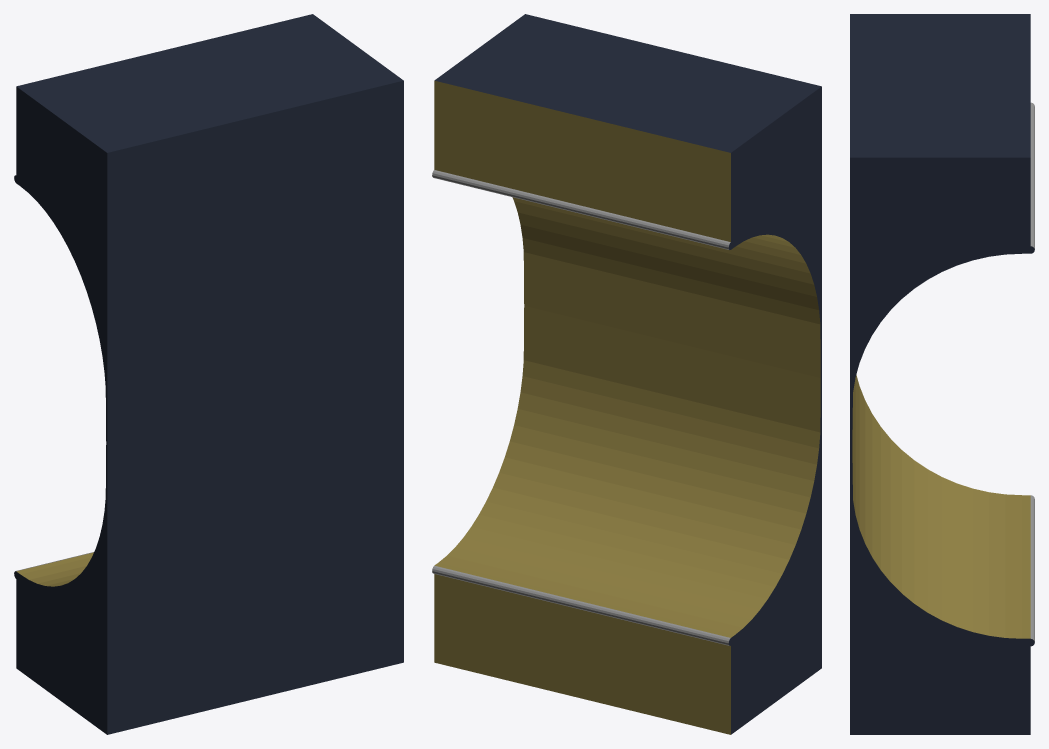
Rendered from Halfpipe.fbx.
3 renders of one model, left to right at view 1: azimuth 30°, elevation 25°; view 2: azimuth 150°, elevation 25°; view 3: azimuth 270°, elevation 25°, orthographic.
Parts seen in each view (by area): view 1: Halfpipe; view 2: Halfpipe; view 3: Halfpipe.
Part boxes in pixels (bbox=[...]): Halfpipe: bbox=[14, 14, 403, 734]; Halfpipe: bbox=[432, 14, 821, 734]; Halfpipe: bbox=[850, 14, 1034, 734].
Size of the model in its own units: 1600 by 3000 by 870.
